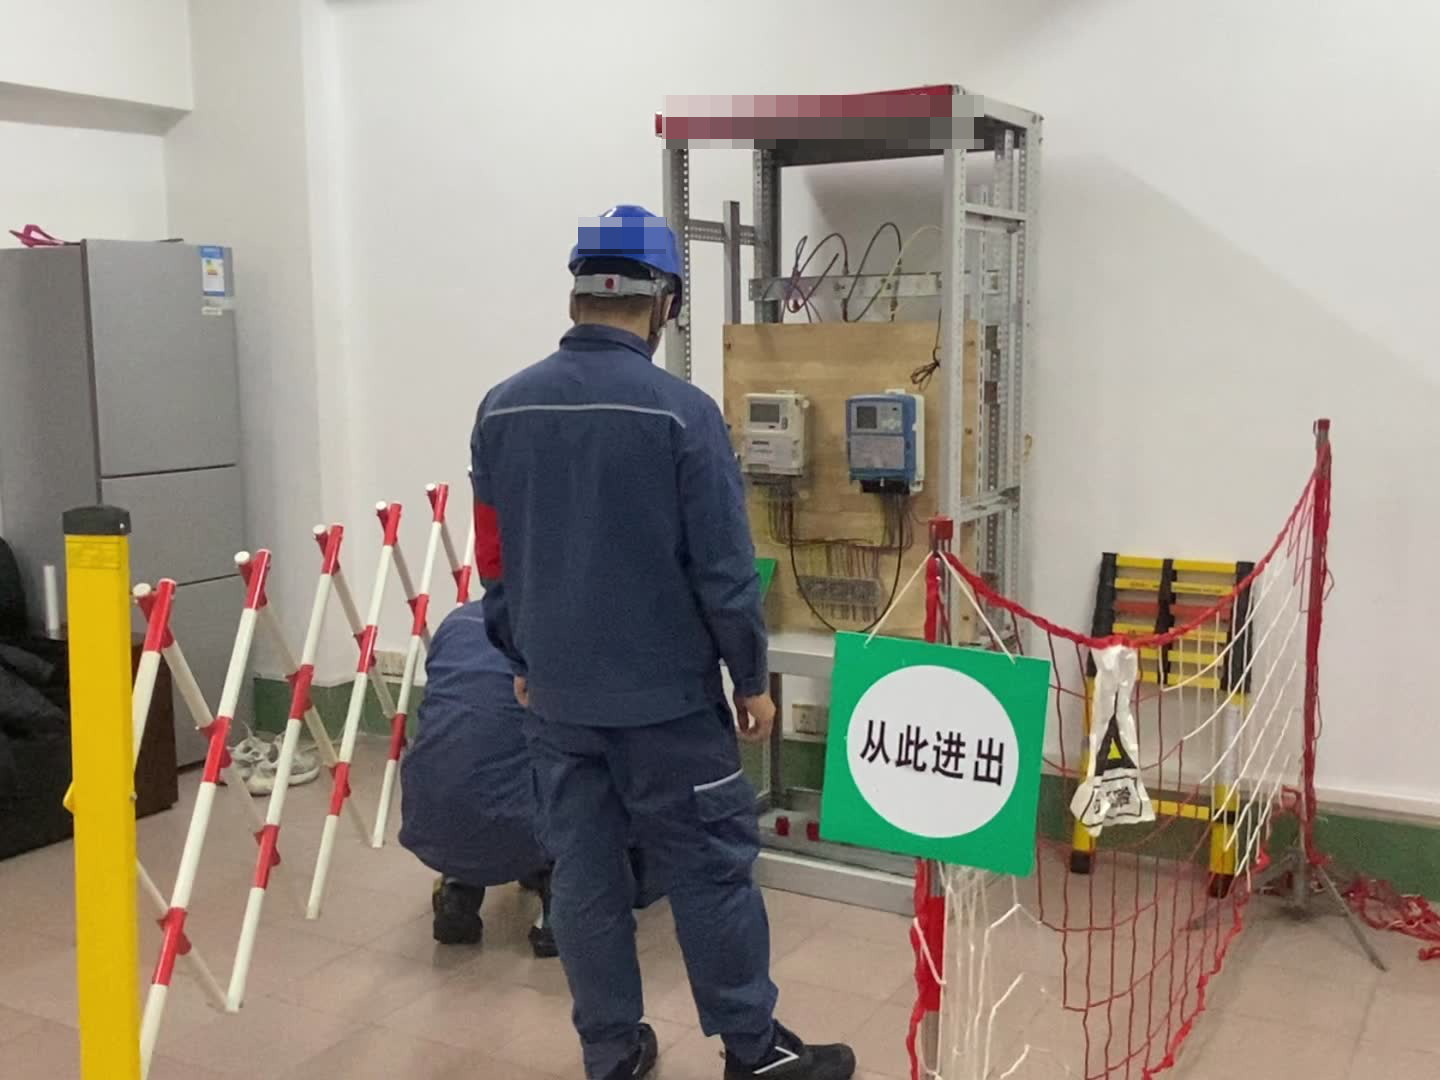badge: (473, 500, 509, 581)
downsuit: (536, 728, 781, 1080)
halt: (563, 201, 691, 341)
hand: (731, 694, 784, 747)
inear: (648, 282, 675, 347)
intosign: (812, 618, 1055, 885)
person: (469, 196, 856, 1080), (397, 588, 562, 957)
upsuit: (465, 319, 772, 722), (399, 594, 551, 884)
